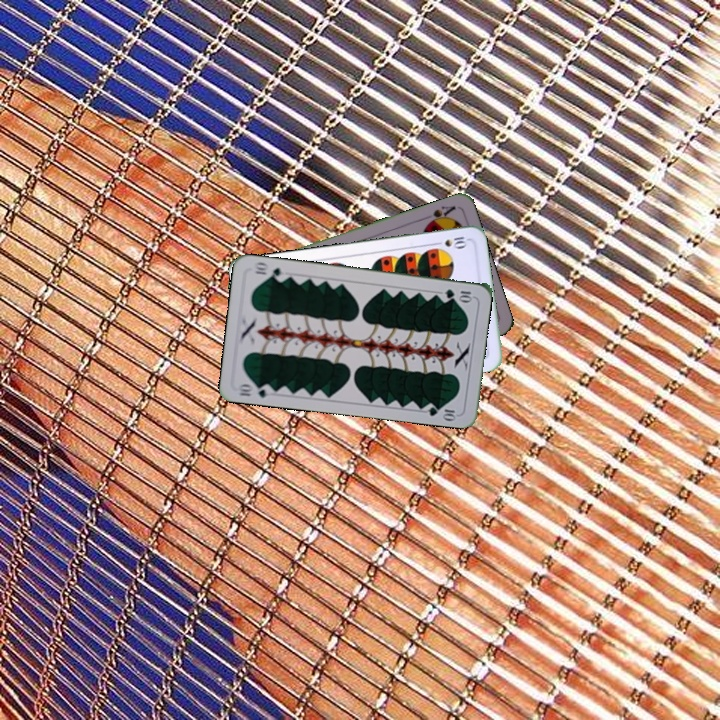G10: (234, 379, 275, 400), (441, 285, 474, 303)
S10: (430, 233, 470, 250)
SA: (420, 202, 458, 228)
